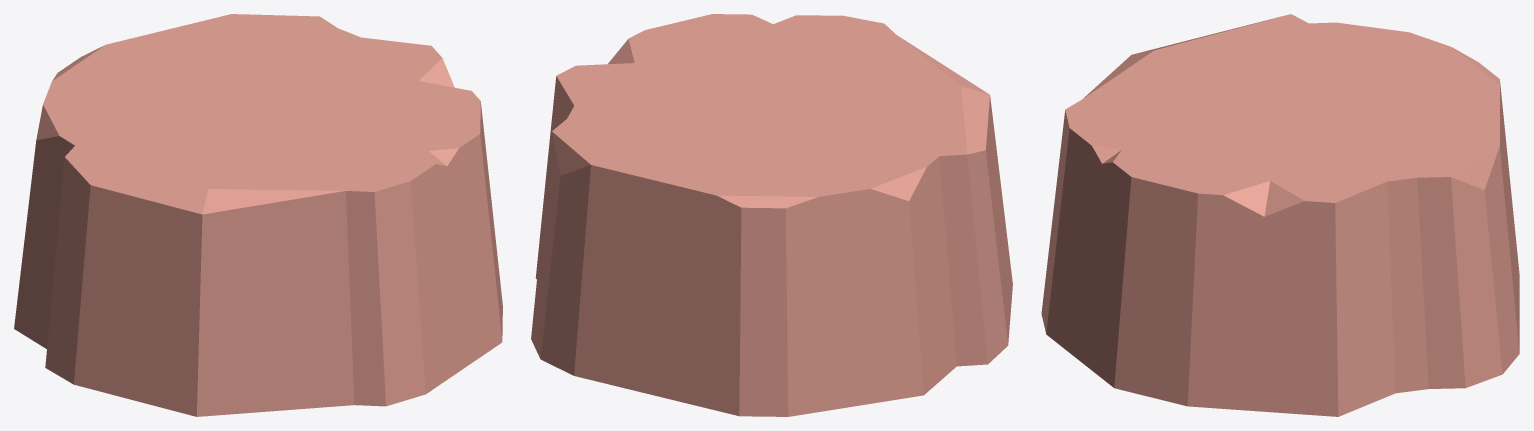
Rendered from Cylinder_001_Vlad.fbx.
3 views of the same model, side by side, from view 1: azimuth 30°, elevation 25°; view 2: azimuth 150°, elevation 25°; view 3: azimuth 270°, elevation 25° (orthographic).
Parts seen in each view (by area): view 1: Cylinder.001; view 2: Cylinder.001; view 3: Cylinder.001.
Part boxes in pixels (x1=…): Cylinder.001: x1=14, y1=14, x2=502, y2=416; Cylinder.001: x1=531, y1=14, x2=1012, y2=416; Cylinder.001: x1=1041, y1=14, x2=1519, y2=416.
Bounding box in the file's own units: 218 × 100 × 212.
